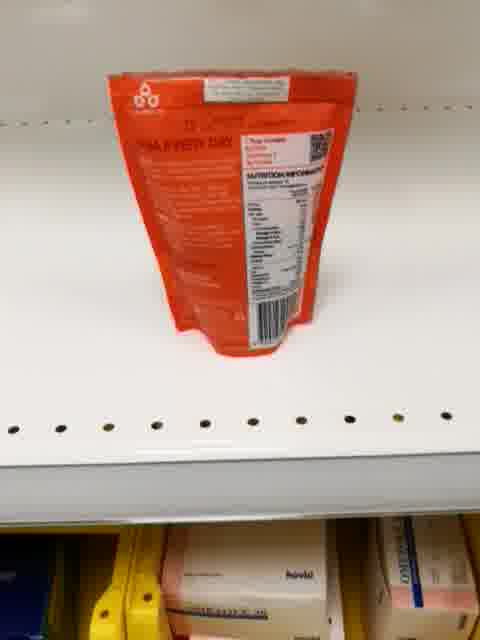whitechia: (105, 69, 362, 358)
